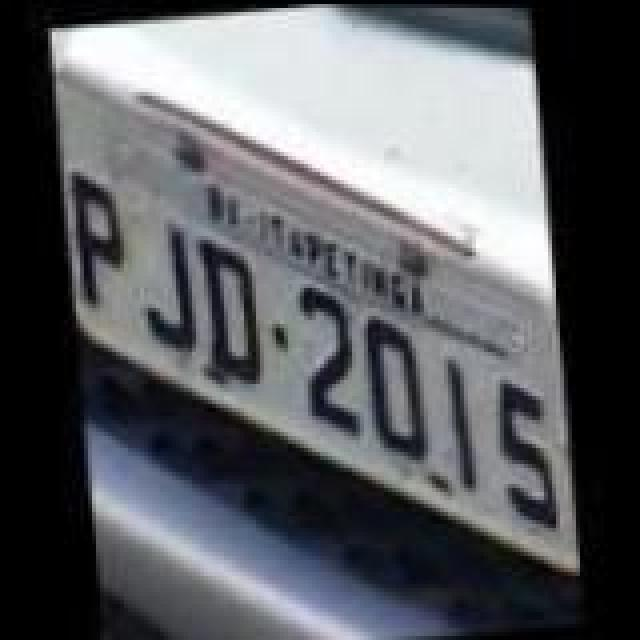1: (440, 356, 492, 500)
2: (294, 278, 370, 434)
5: (488, 372, 568, 528)
D: (194, 230, 270, 394)
J: (132, 212, 204, 356)
O: (362, 308, 434, 464)
P: (62, 164, 138, 312)
